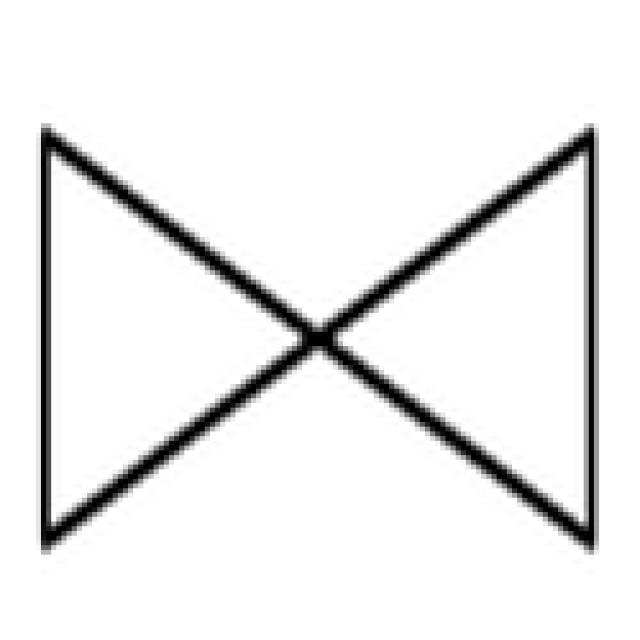Gate valve: (41, 128, 589, 545)
